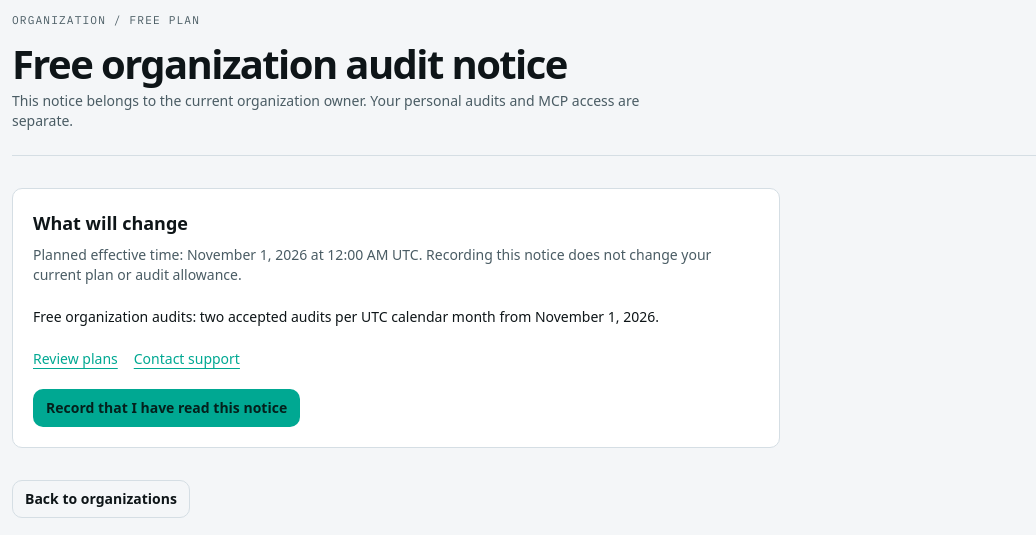
Test case: Free organization cutover notice › shows the exact notice and records the API-confirmed receipt for an owner without email
The image size is (1036, 535).
Expected: the text "Free organization audits: two accepted audits per UTC calendar month from November 1, 2026." is shown, [33,307,659,326]
Step 1. Click the button "Record that I have read this notice" → click(167, 408), box [33,389,300,427]
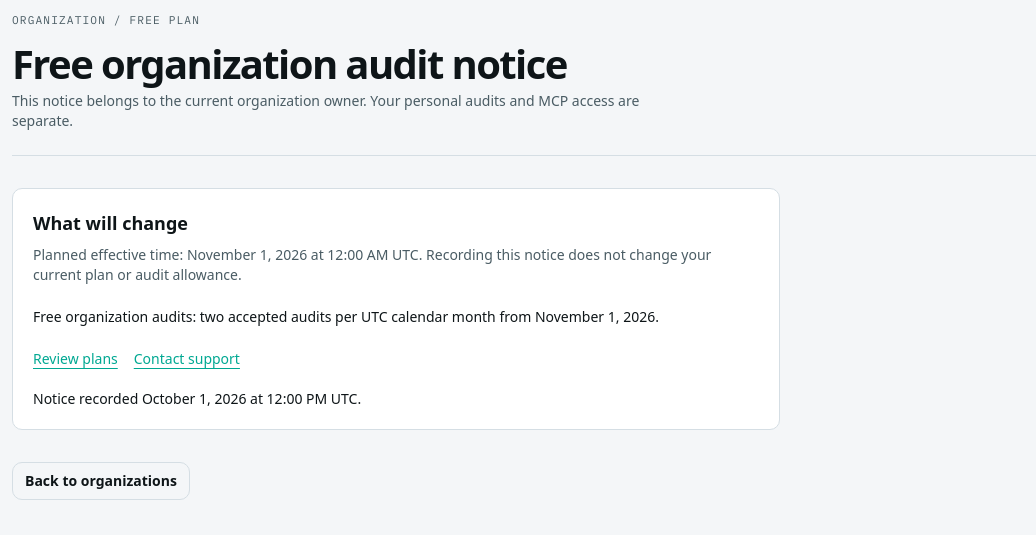
Result: the text "Notice recorded October 1, 2026 at 12:00 PM UTC." is shown at [33,389,361,408]
